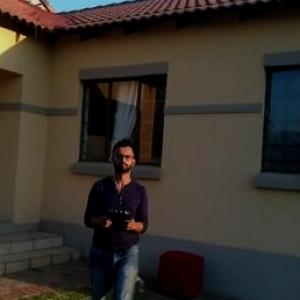follow: (79, 129, 155, 299)
